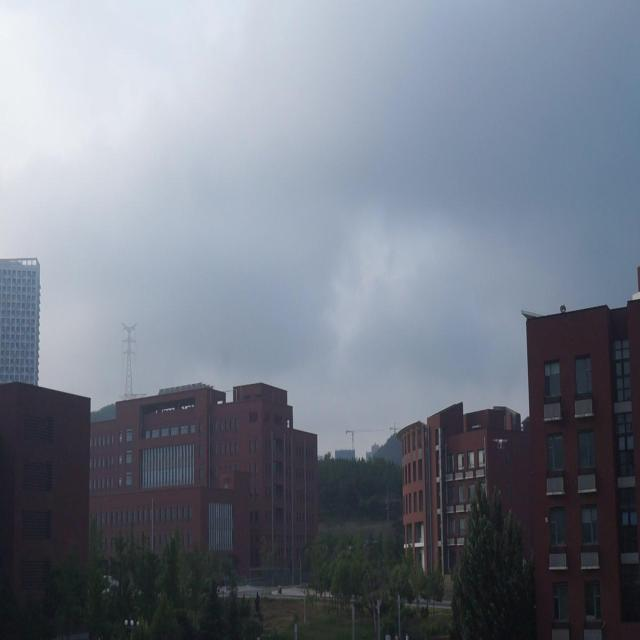drone: (492, 434, 509, 453)
